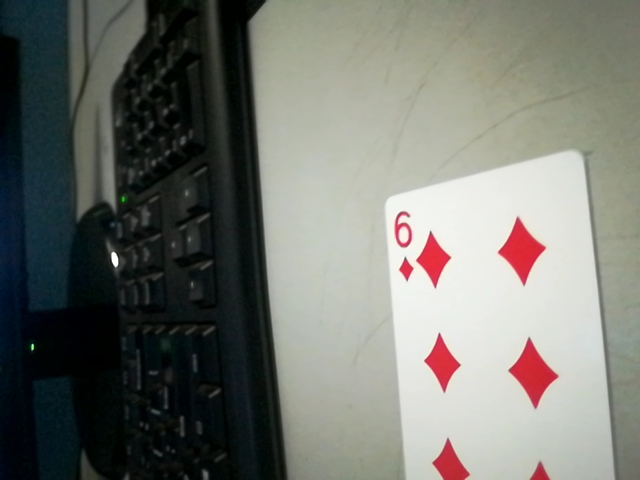fk 6: (386, 201, 428, 286)
